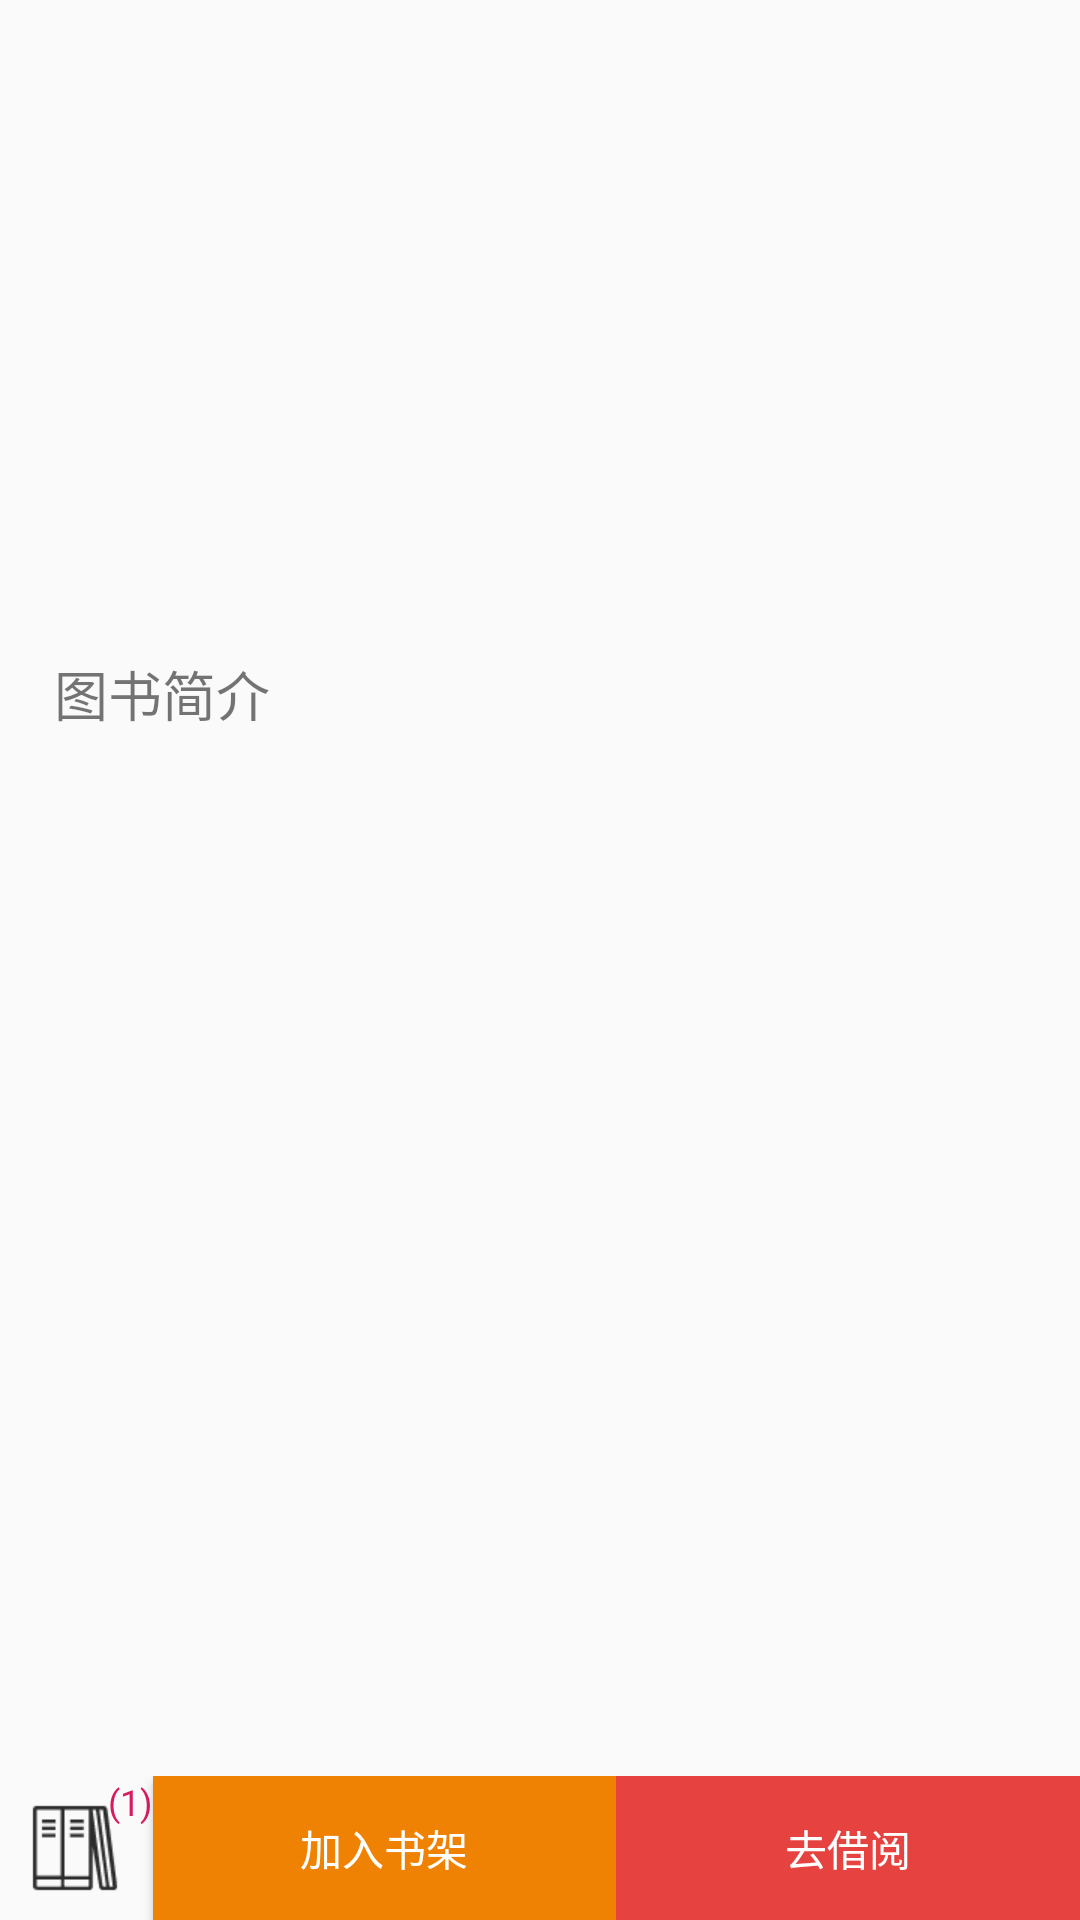

Icon click points for this 1080x1920 phone screenshot, format [x,y]:
bookshelf: [75,1848]
